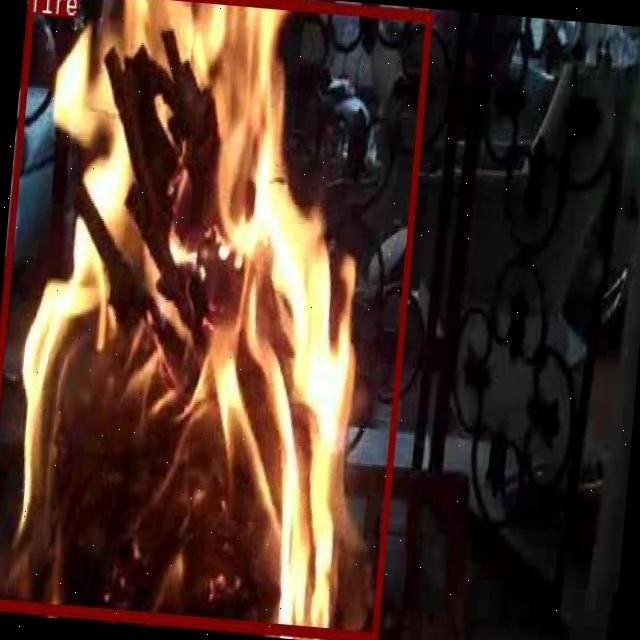fire: (0, 0, 431, 639)
